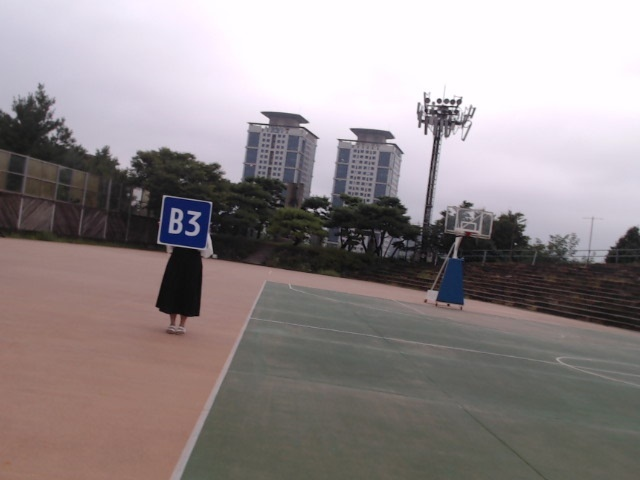delivery_b3: (158, 196, 212, 249)
